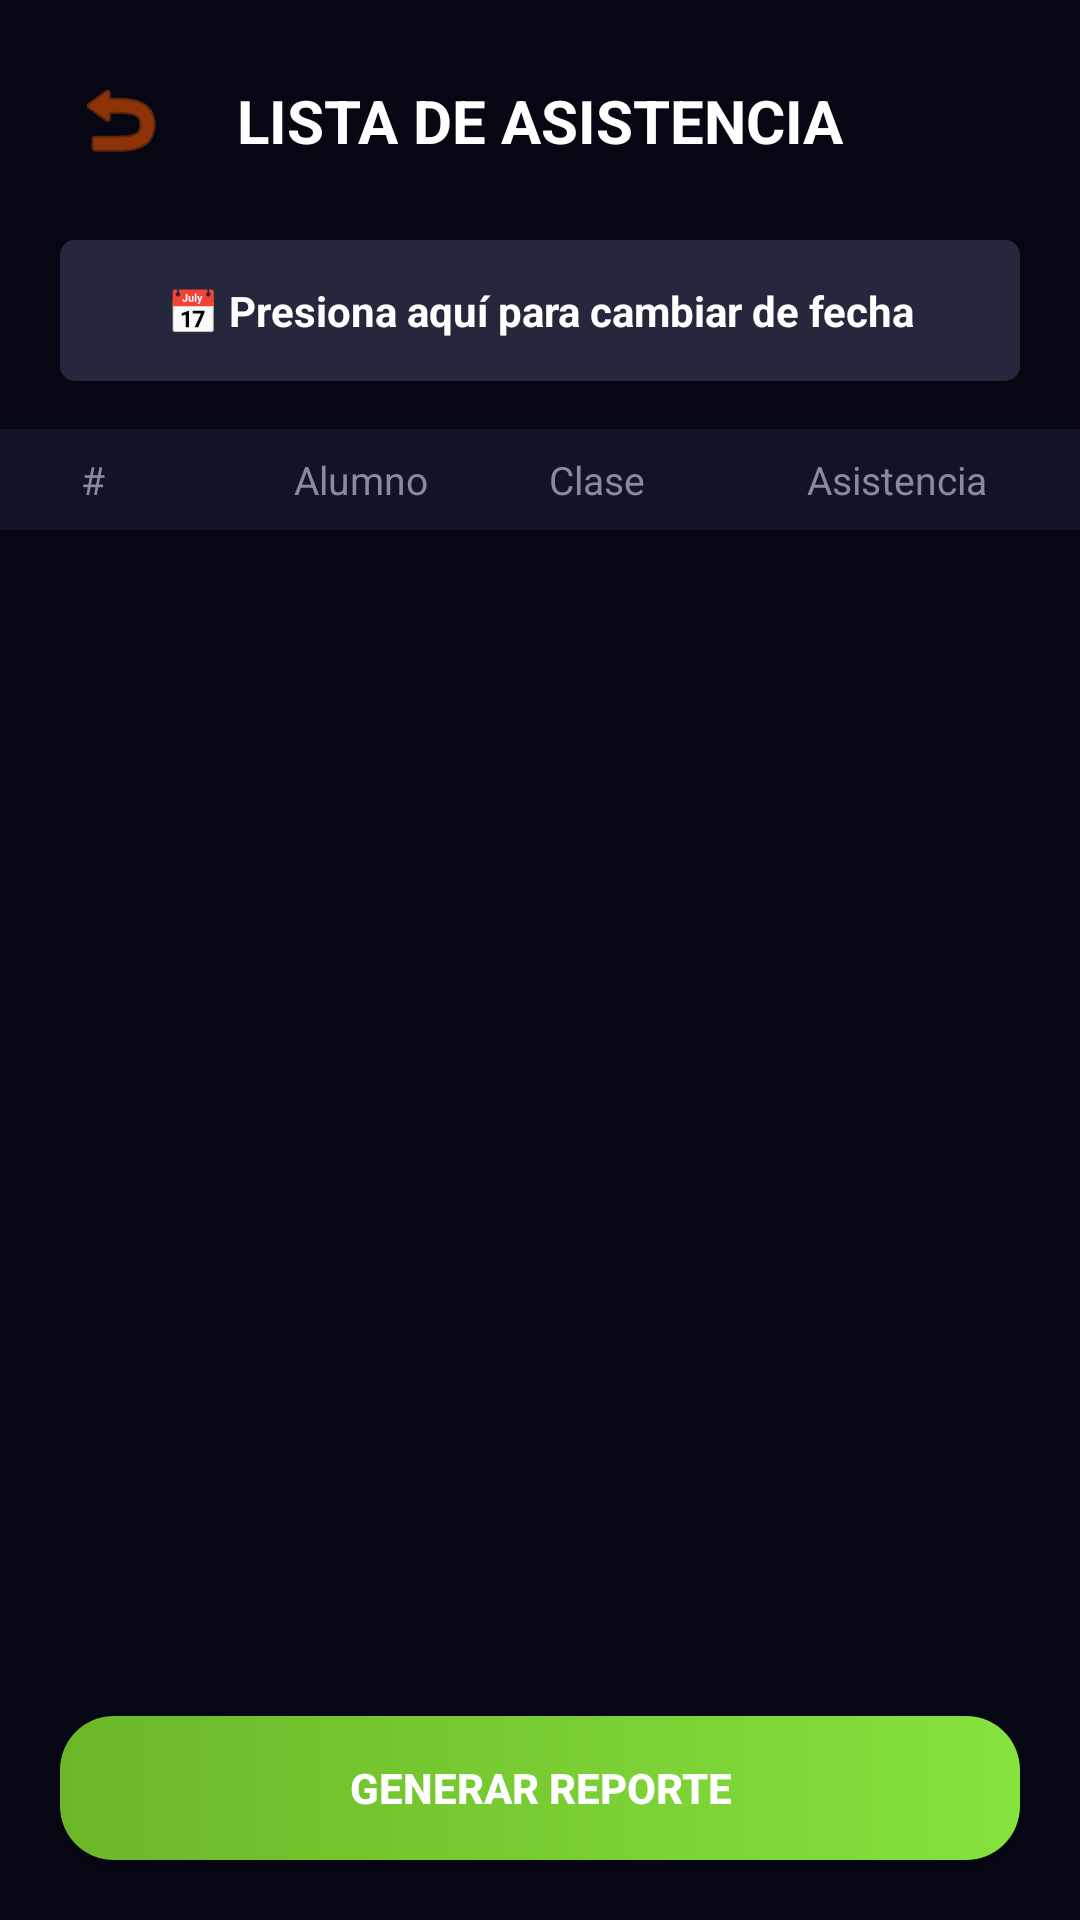

Named icons in this screenshot (1080×1920) and their centers, (x=x, y=y):
revert: (x=121, y=120)
